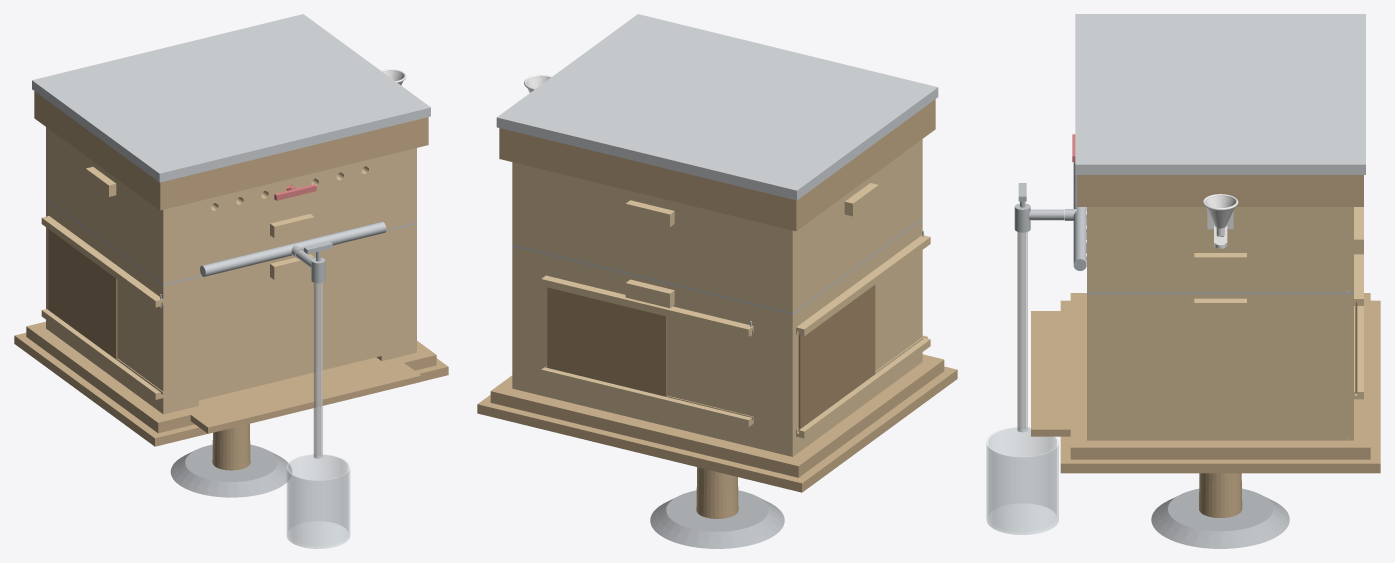
The model's file is hive.glb.
3 views of the same model, side by side, from view 1: azimuth 30°, elevation 25°; view 2: azimuth 150°, elevation 25°; view 3: azimuth 270°, elevation 25° (orthographic). The views are drawn at different scales.
Parts seen in each view (by area): view 1: roof_tin, brood_wall_front, super_wall_front, floor_board, roof_body, brood_wall_left, super_wall_left, shutter_left, collection_jar, stand_foot, stand_platform, manifold (+3 smaller); view 2: roof_tin, brood_wall_back, super_wall_back, roof_body, brood_wall_left, floor_board, super_wall_left, shutter_back, stand_platform, shutter_left, stand_foot, stand_pole (+1 smaller); view 3: roof_tin, brood_wall_right, super_wall_right, floor_board, roof_body, collection_jar, stand_platform, stand_foot, brood_wall_back, harvest_hose, stand_pole, feeder_funnel (+6 smaller).
Part boxes in pixels (box(x1,y1,x2,y2)): roof_tin: box(32, 14, 430, 182); brood_wall_front: box(160, 224, 416, 414); super_wall_front: box(160, 148, 416, 284); floor_board: box(26, 321, 436, 433); roof_body: box(34, 91, 428, 210); brood_wall_left: box(41, 202, 163, 411); super_wall_left: box(49, 129, 160, 281); shutter_left: box(48, 229, 117, 360); collection_jar: box(287, 454, 349, 548); stand_foot: box(170, 444, 292, 497); stand_platform: box(14, 333, 448, 446); manifold: box(200, 221, 386, 276); roof_tin: box(496, 14, 938, 200); brood_wall_back: box(512, 246, 795, 456); super_wall_back: box(512, 162, 795, 312); roof_body: box(499, 99, 935, 231); brood_wall_left: box(796, 222, 930, 454); floor_board: box(490, 335, 944, 477); super_wall_left: box(796, 141, 919, 310); shutter_back: box(547, 287, 666, 396); stand_platform: box(477, 366, 957, 492); shutter_left: box(798, 285, 875, 431); stand_foot: box(650, 490, 784, 548); stand_pole: box(696, 467, 738, 518); roof_tin: box(1075, 14, 1365, 174); brood_wall_right: box(1093, 294, 1347, 440); super_wall_right: box(1093, 207, 1347, 292); floor_board: box(1031, 293, 1370, 459); roof_body: box(1077, 175, 1363, 206); collection_jar: box(986, 427, 1058, 534); stand_platform: box(1060, 300, 1380, 473); stand_foot: box(1151, 488, 1289, 548); brood_wall_back: box(1347, 207, 1363, 440); harvest_hose: box(1017, 232, 1027, 432); stand_pole: box(1199, 473, 1242, 517); feeder_funnel: box(1202, 194, 1238, 248).
Bounding box in the file's own units: 637 × 720 × 597.
